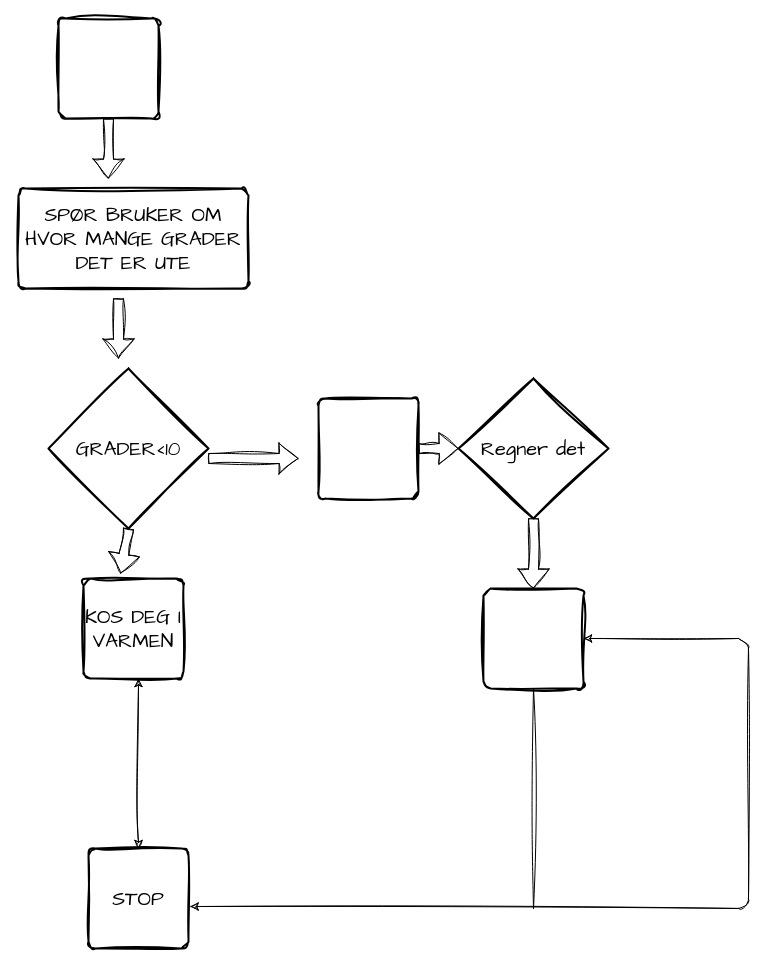
Some shapes in this 775 by 966 pixel diagram are drawn without their labels. Each missing label, with the box of its shape:
START: (57, 17, 159, 119)
Ta med paraply: (482, 587, 584, 689)
TA PÅ JAKKE: (317, 397, 419, 499)
